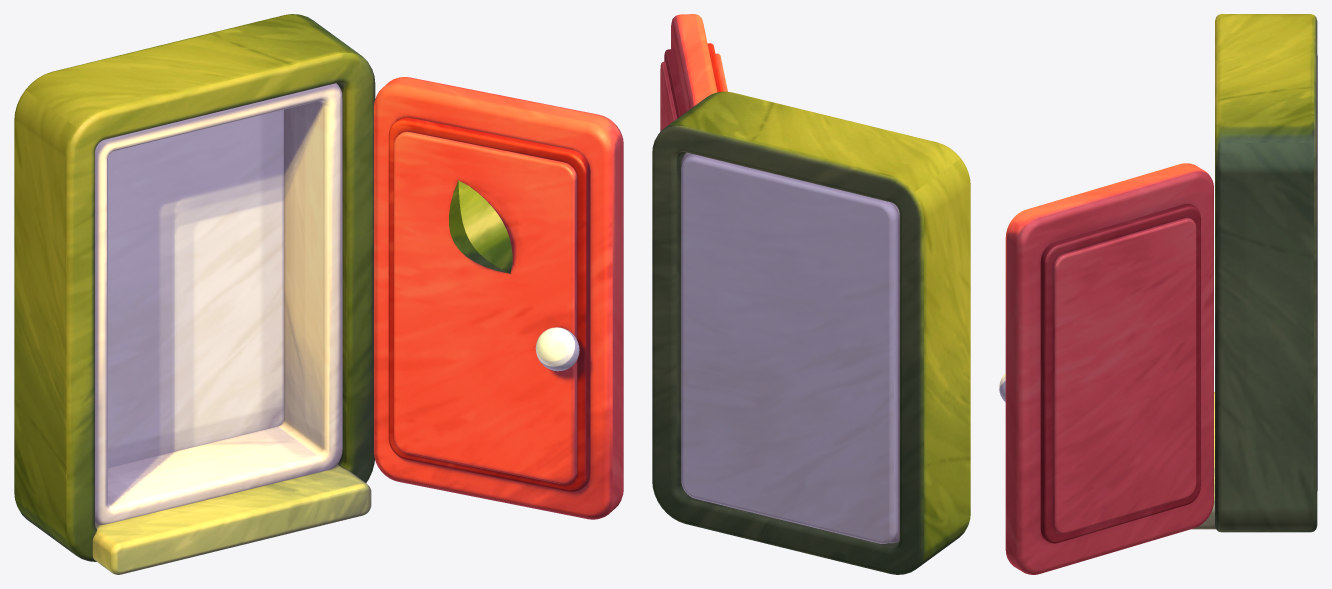
File: introduction.glb
The picture shows the model from 3 angles, left to right: view 1: azimuth 30°, elevation 25°; view 2: azimuth 150°, elevation 25°; view 3: azimuth 270°, elevation 25°; orthographic projection. The views are drawn at different scales.
Parts seen in each view (by area): view 1: Olive door frame, Interior back wall, Door • outer field, Cream door jamb, Door • panel, Threshold, Door • outer molding, Olive leaf, Porcelain knob; view 2: Interior back wall, Olive door frame, Door • panel, Door • recessed field, Cream door jamb, Door • inset border; view 3: Olive door frame, Door • recessed field, Door • panel, Door • inset border, Interior back wall.
Boxes of the visible parts, <box> form: Olive door frame: <box>14,14,375,561</box>; Interior back wall: <box>108,109,283,467</box>; Door • outer field: <box>394,131,577,484</box>; Cream door jamb: <box>95,83,342,524</box>; Door • panel: <box>374,77,623,519</box>; Threshold: <box>92,464,371,574</box>; Door • outer molding: <box>388,117,590,491</box>; Olive leaf: <box>449,180,512,273</box>; Porcelain knob: <box>535,327,579,371</box>; Interior back wall: <box>681,154,897,543</box>; Olive door frame: <box>652,91,970,574</box>; Door • panel: <box>671,14,717,111</box>; Door • recessed field: <box>660,61,677,131</box>; Cream door jamb: <box>681,152,899,543</box>; Door • inset border: <box>664,49,686,118</box>; Olive door frame: <box>1215,14,1317,532</box>; Door • recessed field: <box>1053,217,1196,534</box>; Door • panel: <box>1005,163,1213,574</box>; Door • inset border: <box>1040,204,1200,543</box>; Interior back wall: <box>1317,55,1317,491</box>.
Size of the model in its own units: 2.2 by 2.12 by 1.5.
7 materials, 7 textured.
